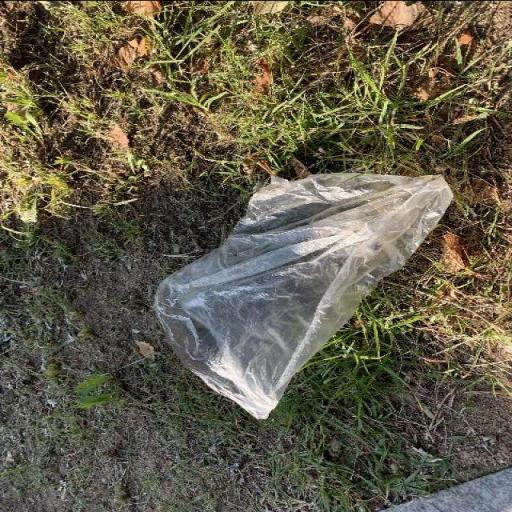plastic-bag: (150, 167, 454, 424)
